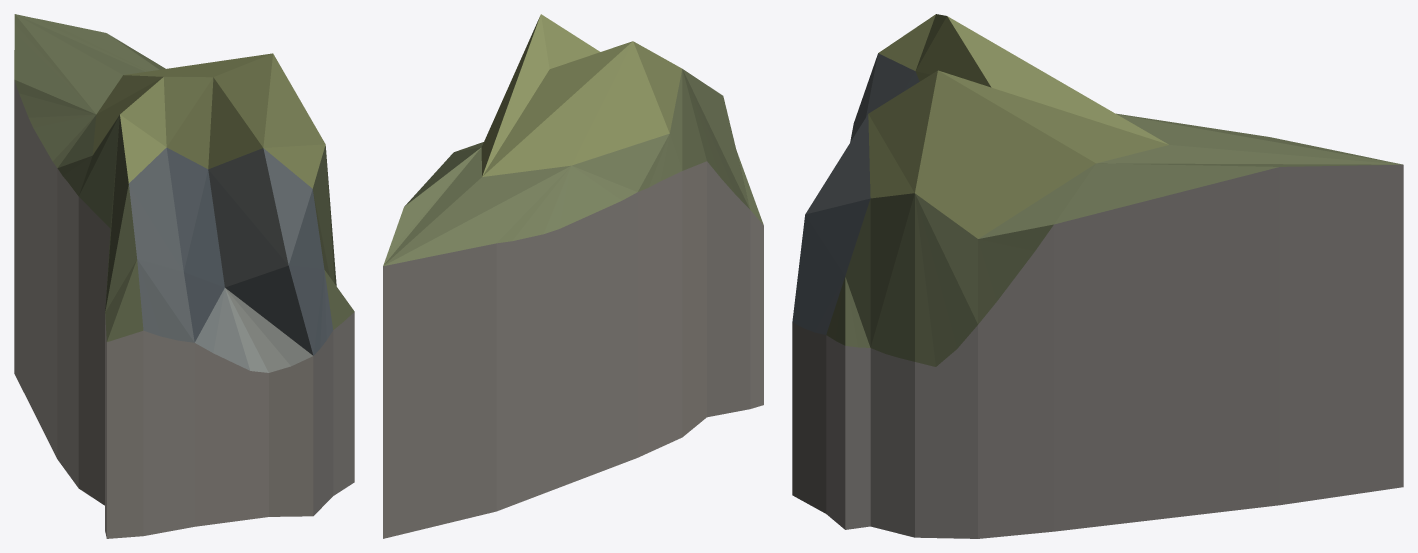
Rendered from cliff_central_wall.glb.
3 renders of one model, left to right at view 1: azimuth 30°, elevation 25°; view 2: azimuth 150°, elevation 25°; view 3: azimuth 270°, elevation 25°, orthographic. The views are drawn at different scales.
Visible parts, largest first — view 1: cliff_central_wall; view 2: cliff_central_wall; view 3: cliff_central_wall.
Part boxes in pixels (x1=…): cliff_central_wall: x1=14, y1=14, x2=354, y2=538; cliff_central_wall: x1=383, y1=14, x2=763, y2=538; cliff_central_wall: x1=792, y1=14, x2=1403, y2=538.
Bounding box in the file's own units: 51.4 × 76.57 × 96.56.
